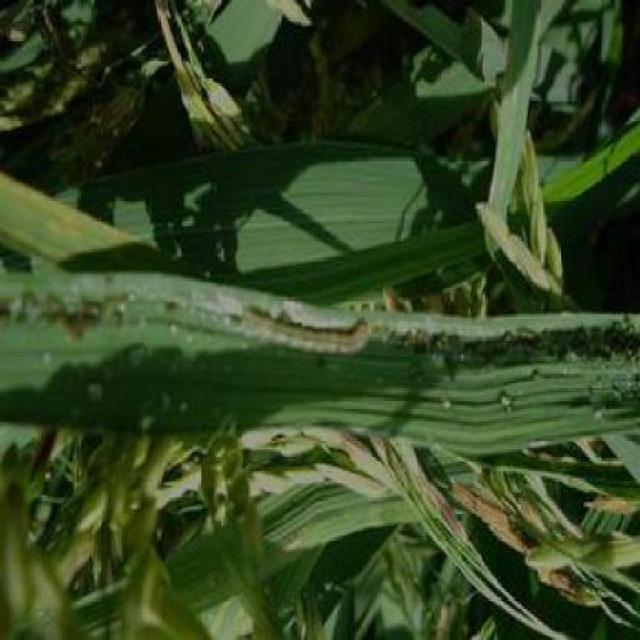leaf-folder: (231, 281, 386, 394)
